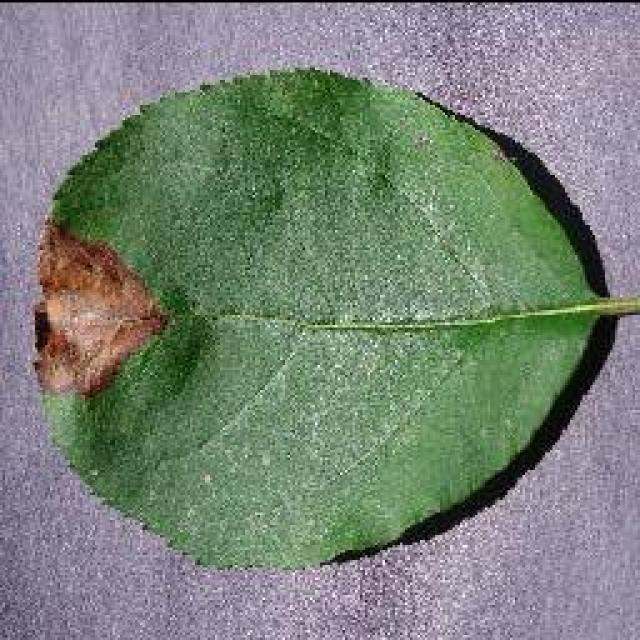apple scab disease: (28, 62, 620, 572)
